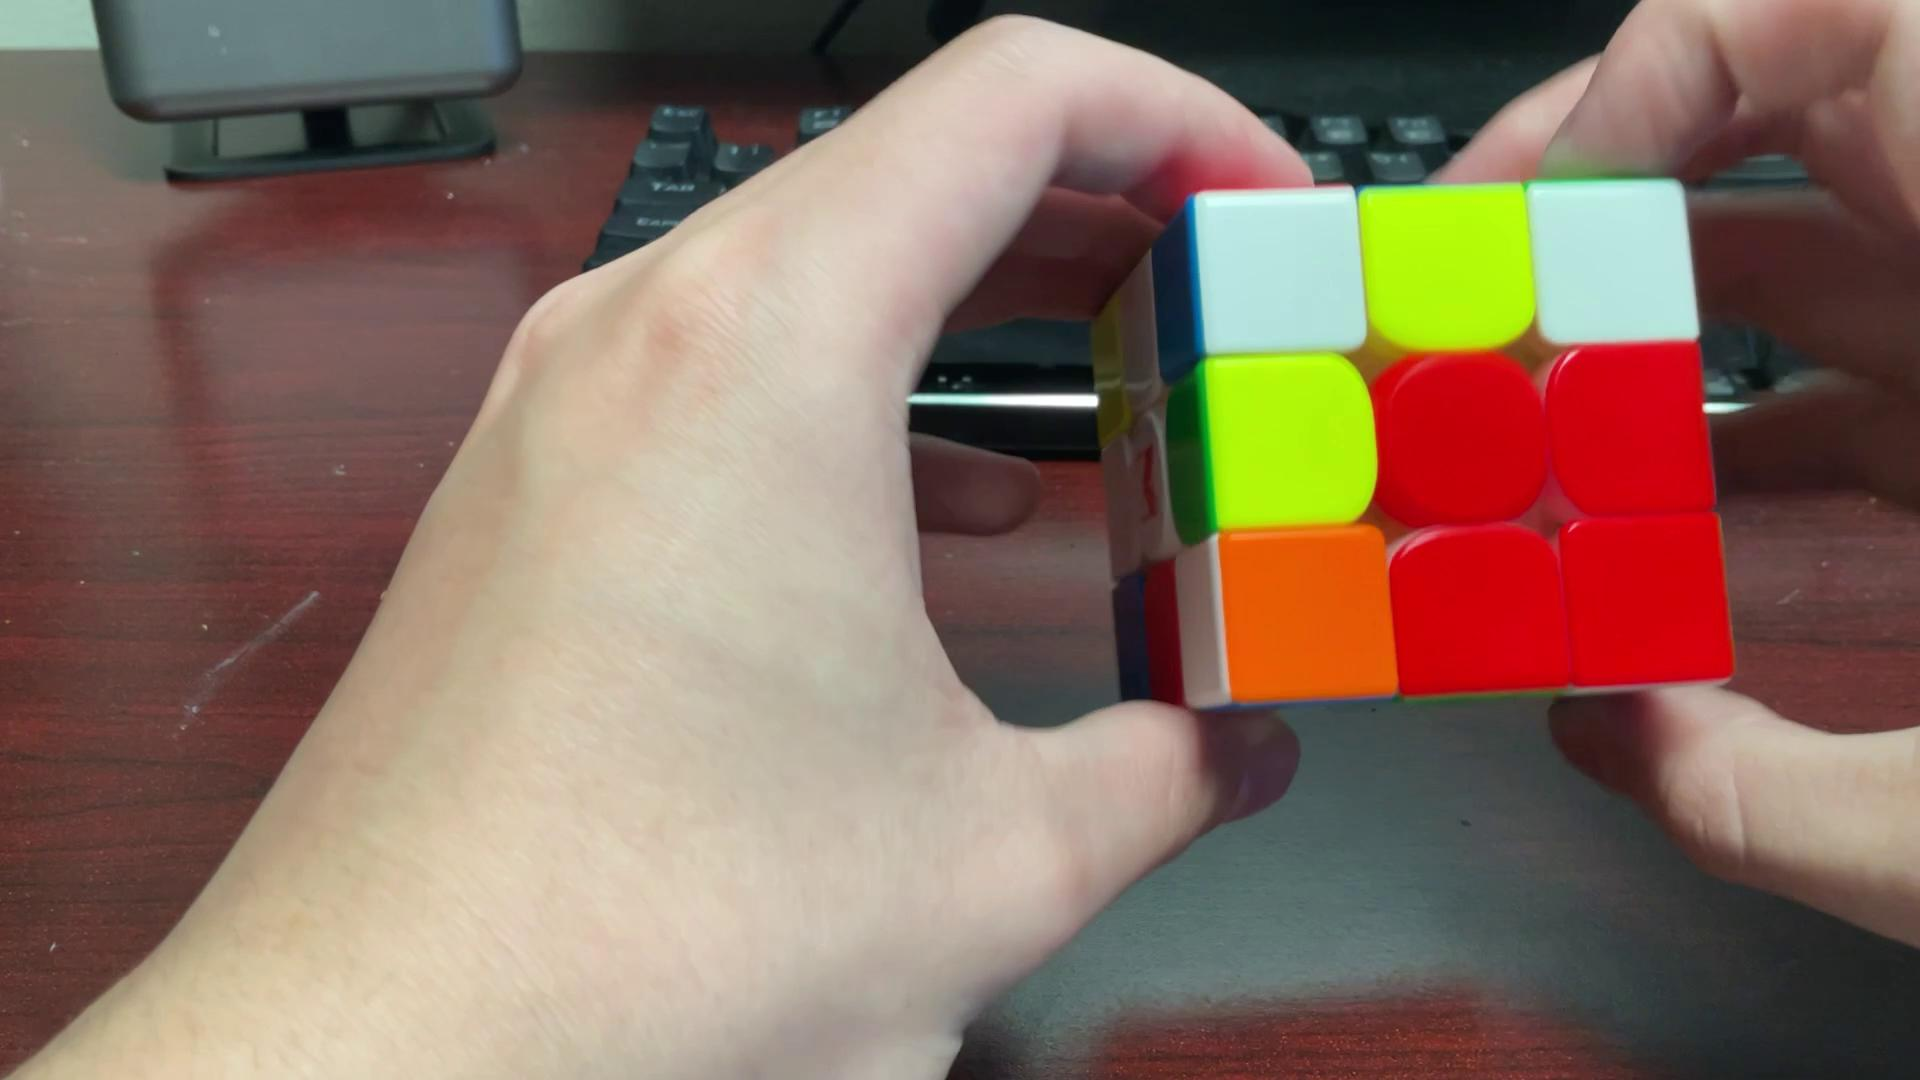Rubiks-Cube: (1071, 173, 1745, 725)
